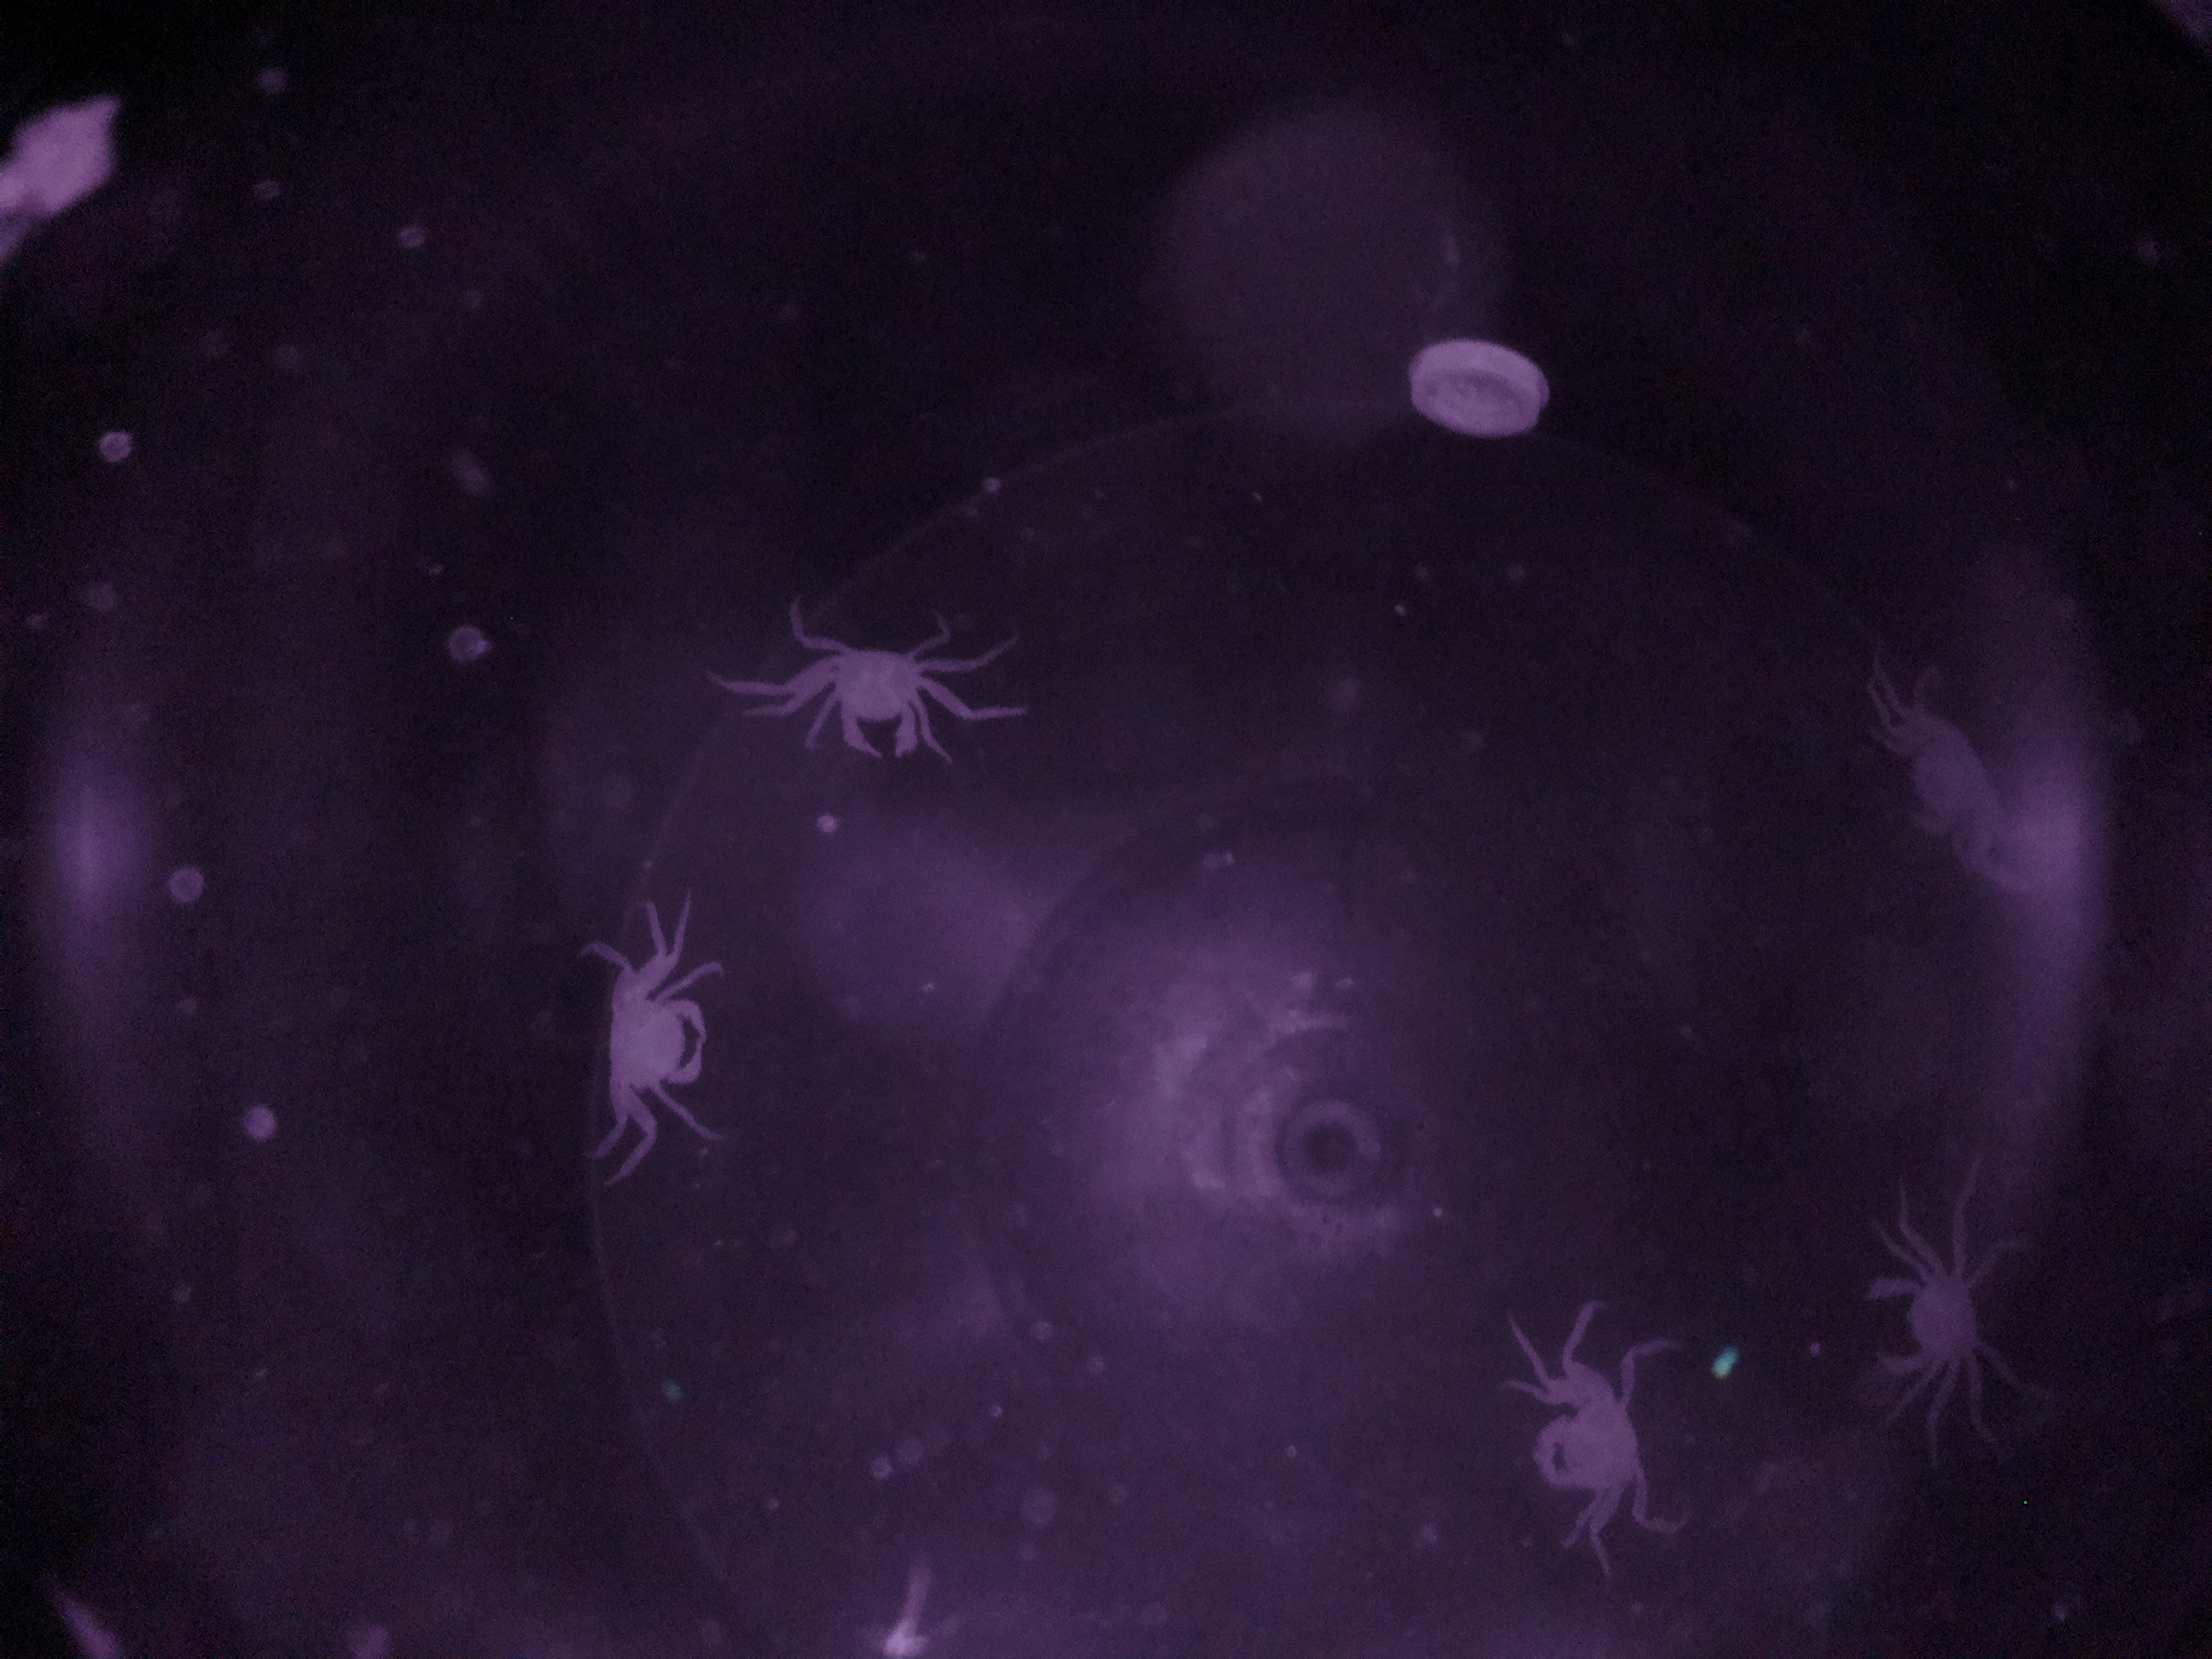Crab: (1498, 1351, 1681, 1527), (577, 960, 733, 1136), (1851, 1241, 2010, 1401), (796, 606, 946, 775)
